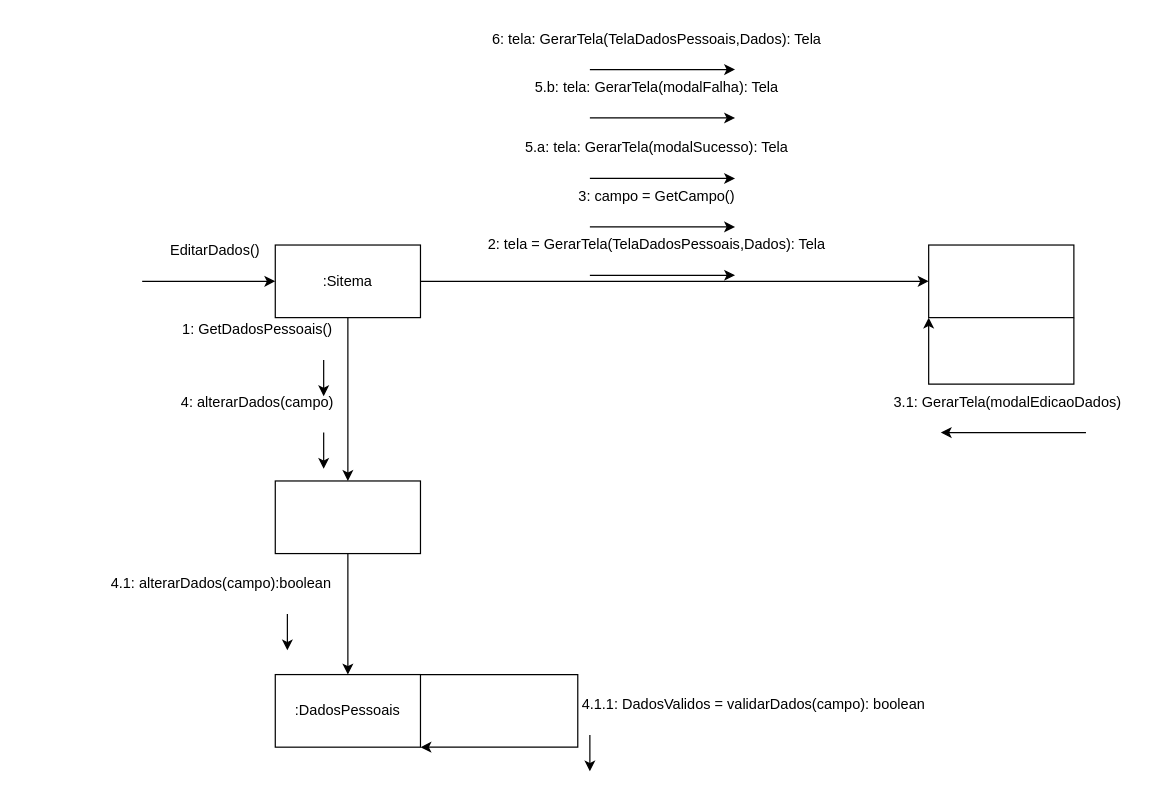
Image size: 1154x802. Some labels were removed from this diagram. The centre of each missing label's shape, as x and y in pixels:
":GerarTela" goes at (1000,281).
":Usuario" goes at (347,517).
